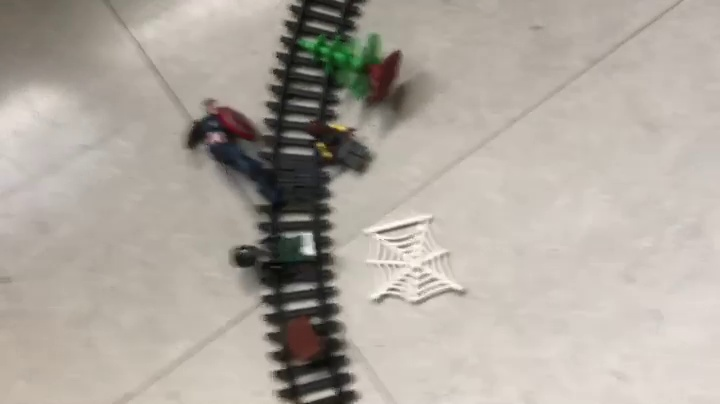box: (279, 316, 329, 365)
people: (183, 98, 290, 206), (230, 231, 320, 278), (304, 120, 372, 172)
tree: (294, 30, 405, 106)
web: (362, 214, 467, 304)
